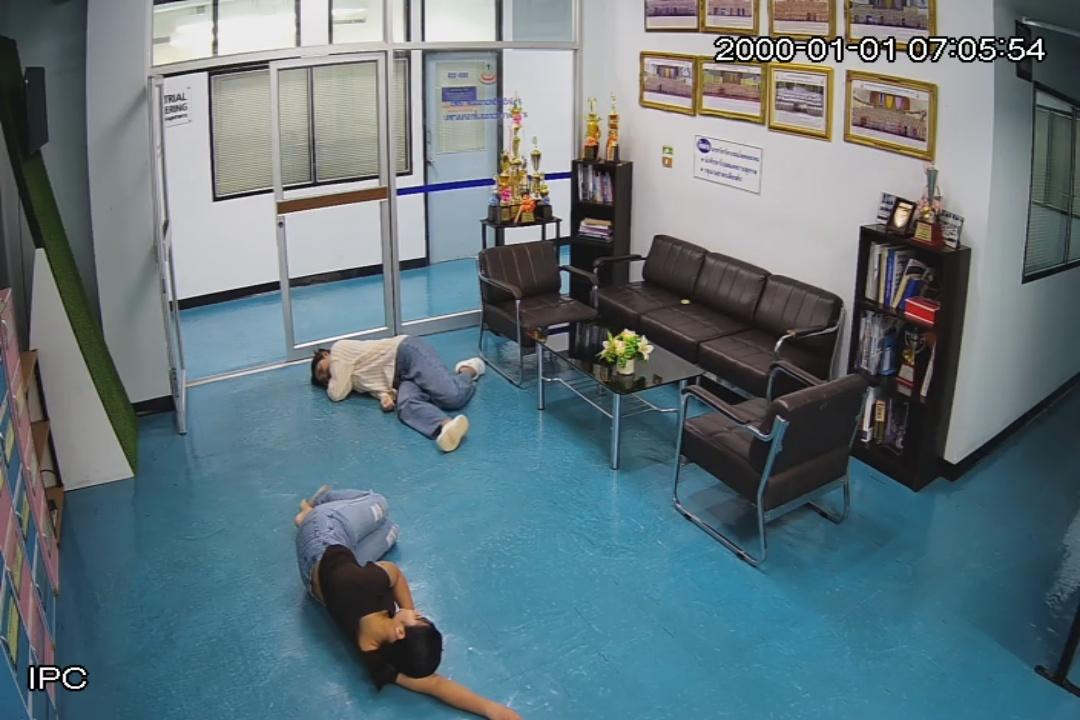fall: (294, 487, 526, 720), (313, 336, 491, 452)
